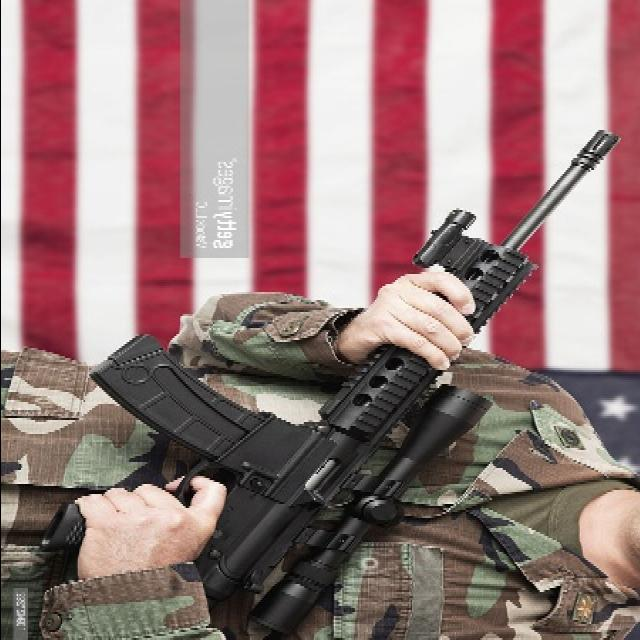rifle: (88, 125, 632, 640)
